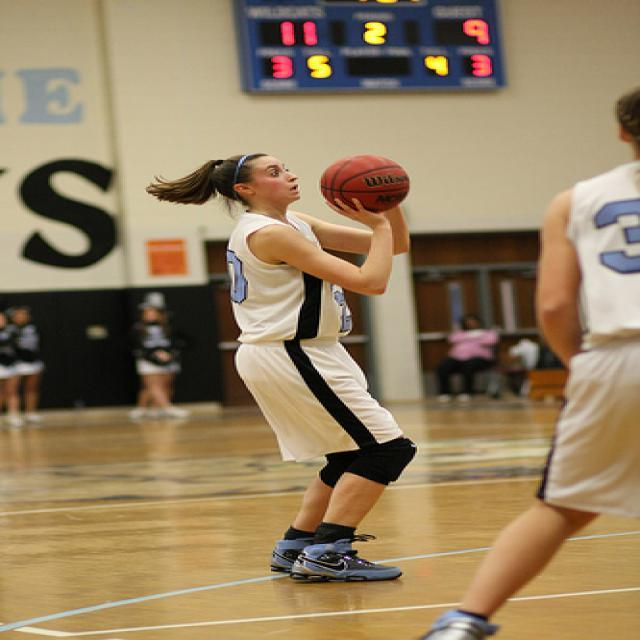basketball: (323, 153, 410, 223)
